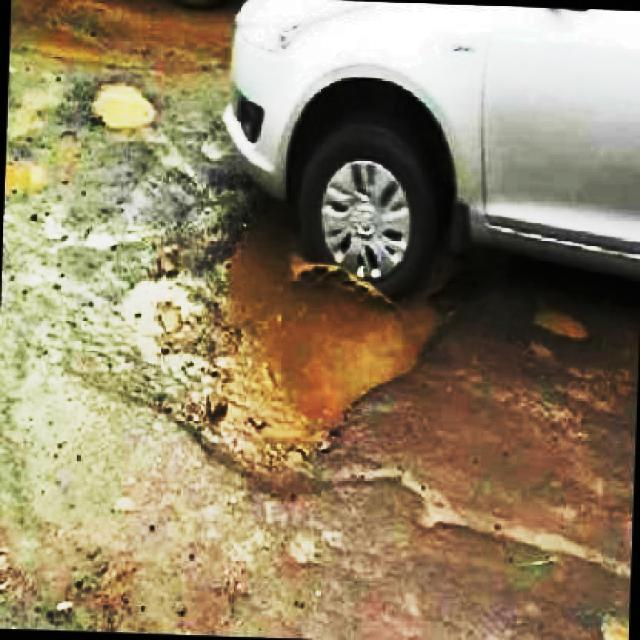pothole: (124, 180, 462, 478), (88, 77, 154, 131), (534, 303, 597, 348), (0, 151, 51, 200)
